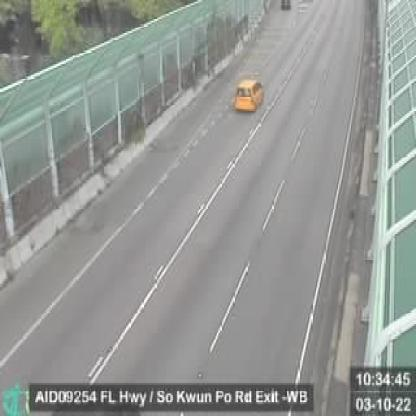Car: (233, 78, 262, 109)
